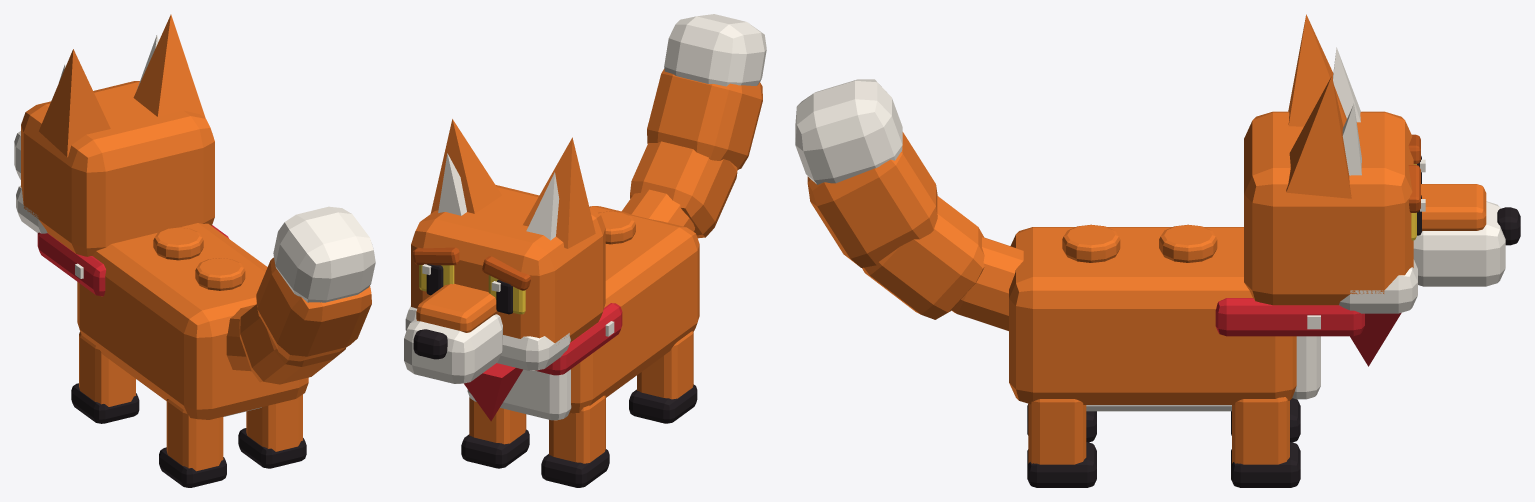
Rendered from RenardFurtif.fbx.
3 renders of one model, left to right at view 1: azimuth 30°, elevation 25°; view 2: azimuth 150°, elevation 25°; view 3: azimuth 270°, elevation 25°, orthographic. The views are drawn at different scales.
Parts seen in each view (by area): view 1: Body.002, Head.001, TailTip, Tail.003, Ear.003, Ear.002, Tail.002, Leg.005, Leg.004, Leg.007, Bandana, Stud (+6 smaller); view 2: Head.001, Body.002, Tail.003, TailTip, Tail.002, Snout.001, Ear.002, SnoutTop, Leg.004, Chest, Ear.003, Leg.005 (+18 smaller); view 3: Body.002, Head.001, Tail.003, TailTip, Tail.002, Snout.001, Ear.003, Bandana, Leg.007, Leg.006, Tail.001, SnoutTop (+11 smaller).
Boxes of the visible parts, x1,y1,x2,y2 form: Body.002: [77, 223, 308, 420]; Head.001: [21, 81, 214, 256]; TailTip: [273, 206, 375, 302]; Tail.003: [256, 257, 371, 361]; Ear.003: [133, 14, 205, 118]; Ear.002: [39, 49, 110, 157]; Tail.002: [239, 304, 345, 384]; Leg.005: [166, 399, 223, 471]; Leg.004: [79, 331, 135, 406]; Leg.007: [246, 394, 302, 451]; Bandana: [37, 225, 228, 296]; Stud: [153, 227, 203, 260]; Head.001: [411, 185, 605, 342]; Body.002: [569, 206, 699, 413]; Tail.003: [647, 69, 762, 169]; TailTip: [664, 14, 766, 86]; Tail.002: [630, 141, 737, 238]; Snout.001: [404, 314, 502, 383]; Ear.002: [523, 137, 595, 248]; SnoutTop: [416, 284, 497, 332]; Leg.004: [549, 395, 605, 463]; Chest: [467, 369, 571, 420]; Ear.003: [430, 119, 501, 213]; Leg.005: [637, 331, 693, 399]; Body.002: [1009, 227, 1296, 404]; Head.001: [1244, 111, 1413, 305]; Tail.003: [807, 132, 937, 267]; TailTip: [795, 79, 902, 184]; Tail.002: [862, 196, 984, 319]; Snout.001: [1413, 201, 1505, 286]; Ear.003: [1286, 76, 1351, 198]; Bandana: [1215, 298, 1364, 336]; Leg.007: [1028, 399, 1086, 464]; Leg.006: [1232, 397, 1289, 464]; Tail.001: [952, 237, 1023, 330]; SnoutTop: [1421, 184, 1486, 231].
Bounding box in the file's own units: 1.98 × 4.69 × 7.48.
